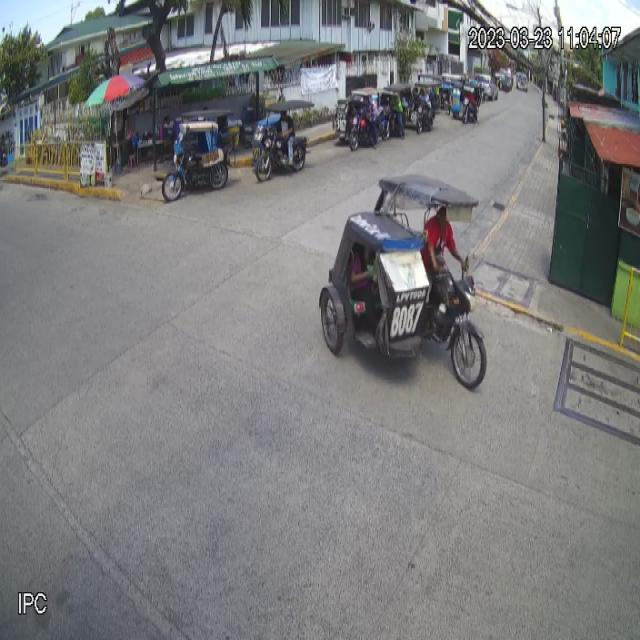Tricycle: (320, 172, 488, 390)
